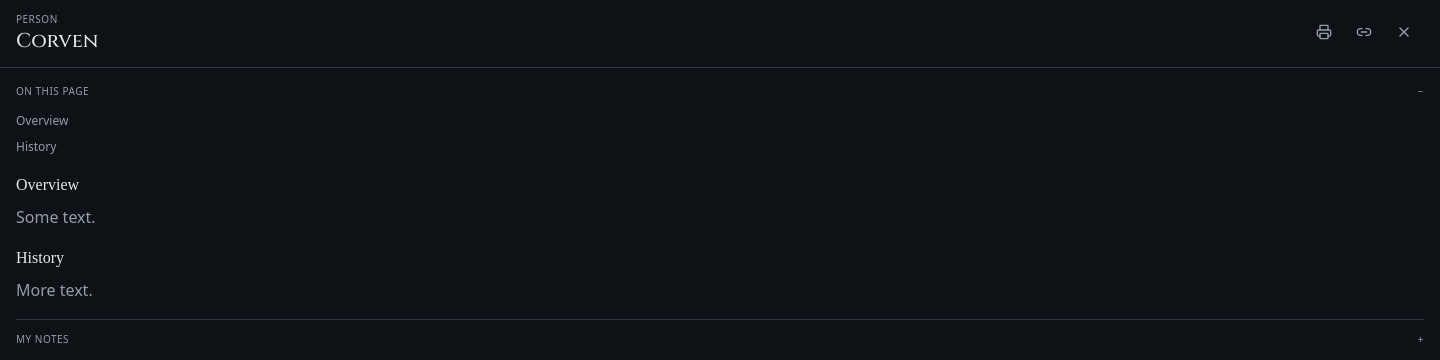
EntityPanel — 'On this page' jump list (Q13) › re-expands the list when the toggle is clicked again after collapsing
Click the button "On this page −" at [53, 91], box [16,84,1424,99]
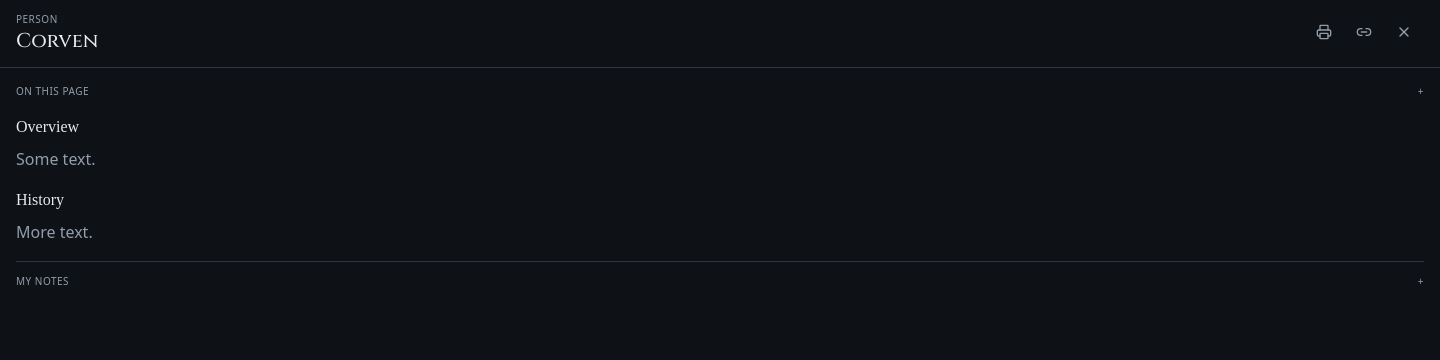
Click the button "On this page +" at [53, 91], box [16,84,1424,99]
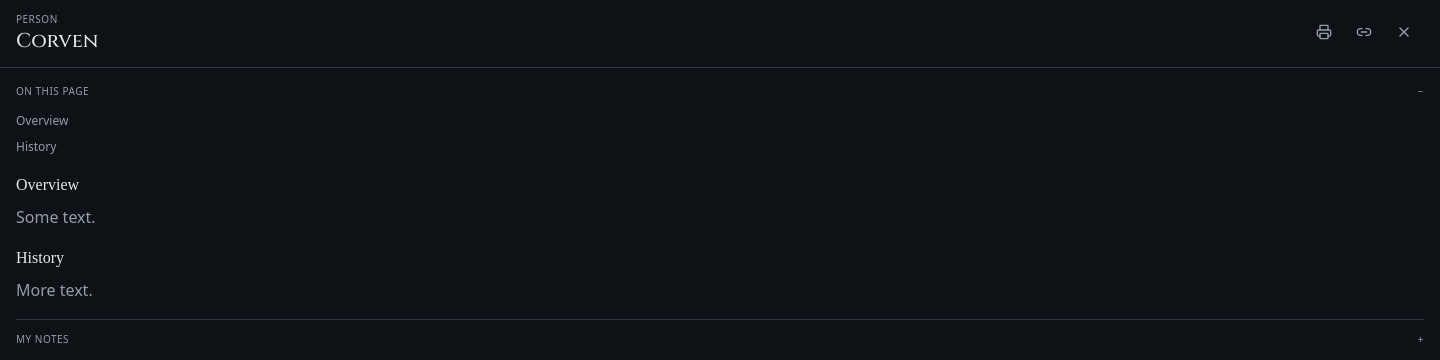
Result: the button "Overview" is shown at [16,113,1424,129]
